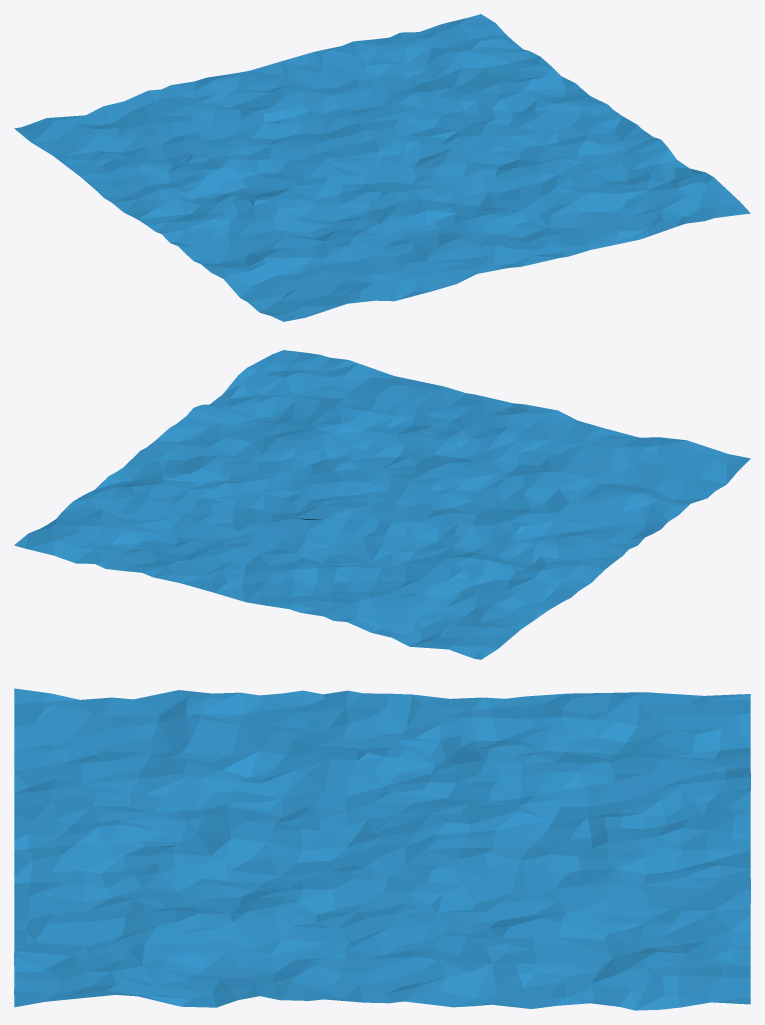
File: waterfinal.fbx
3 renders of one model, top to bottom at view 1: azimuth 30°, elevation 25°; view 2: azimuth 150°, elevation 25°; view 3: azimuth 270°, elevation 25°, orthographic. The views are drawn at different scales.
Parts seen in each view (by area): view 1: Plane; view 2: Plane; view 3: Plane.
Boxes of the visible parts, bbox=[...] form: Plane: bbox=[14, 14, 750, 321]; Plane: bbox=[14, 350, 750, 659]; Plane: bbox=[14, 688, 750, 1010].
Size of the model in its own units: 4002 by 114 by 4003.
